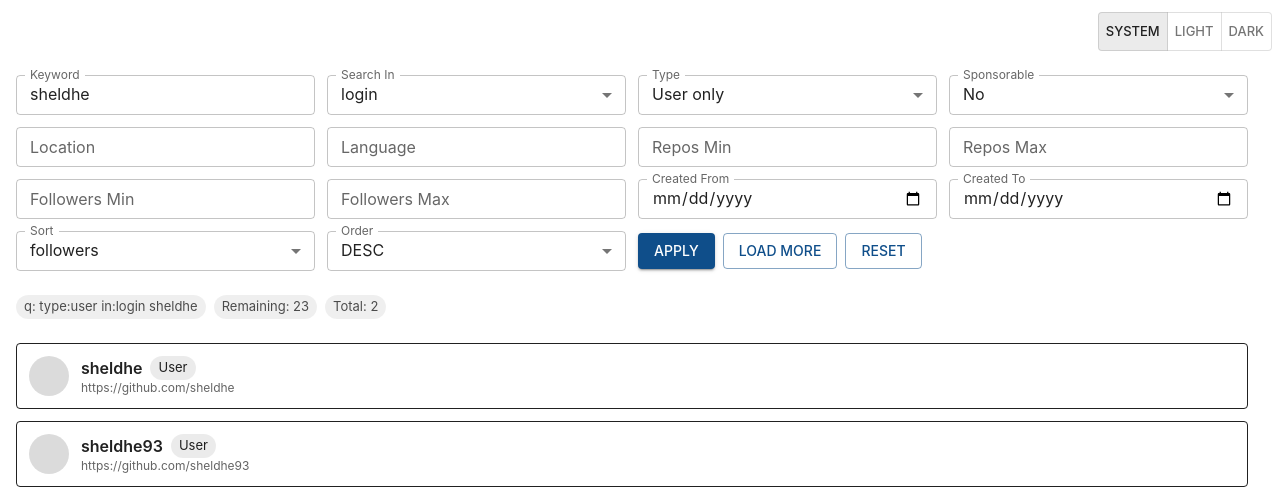
User Search (E2E) › 키워드가 없으면 검색 버튼이 비활성화된다
Clear the field with test id "keyword" at (166, 95), box left=16, top=75, right=315, bottom=115
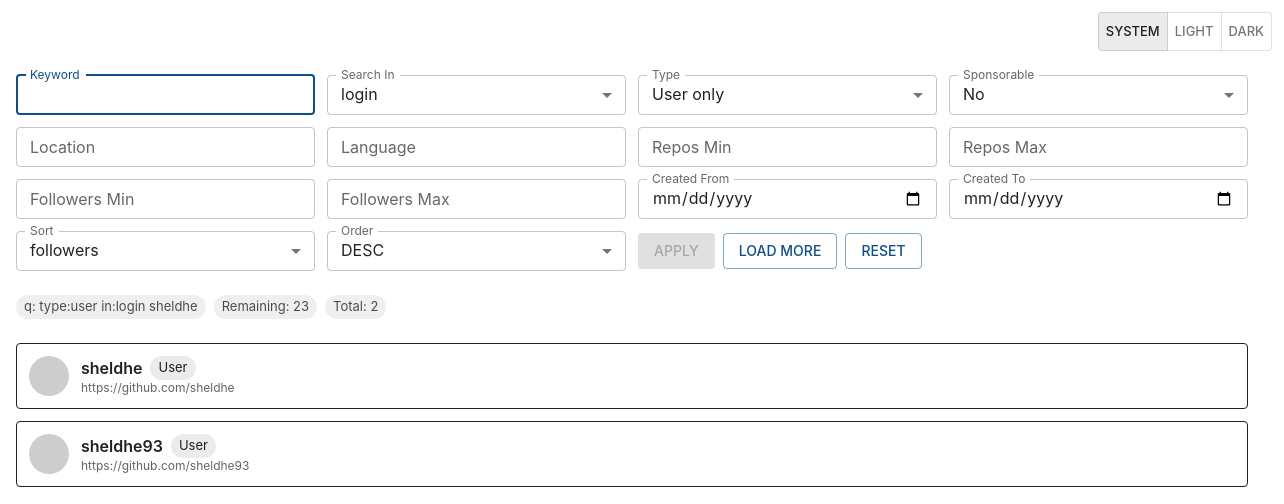
Check: the button with test id "apply" is disabled, box left=638, top=233, right=715, bottom=270
